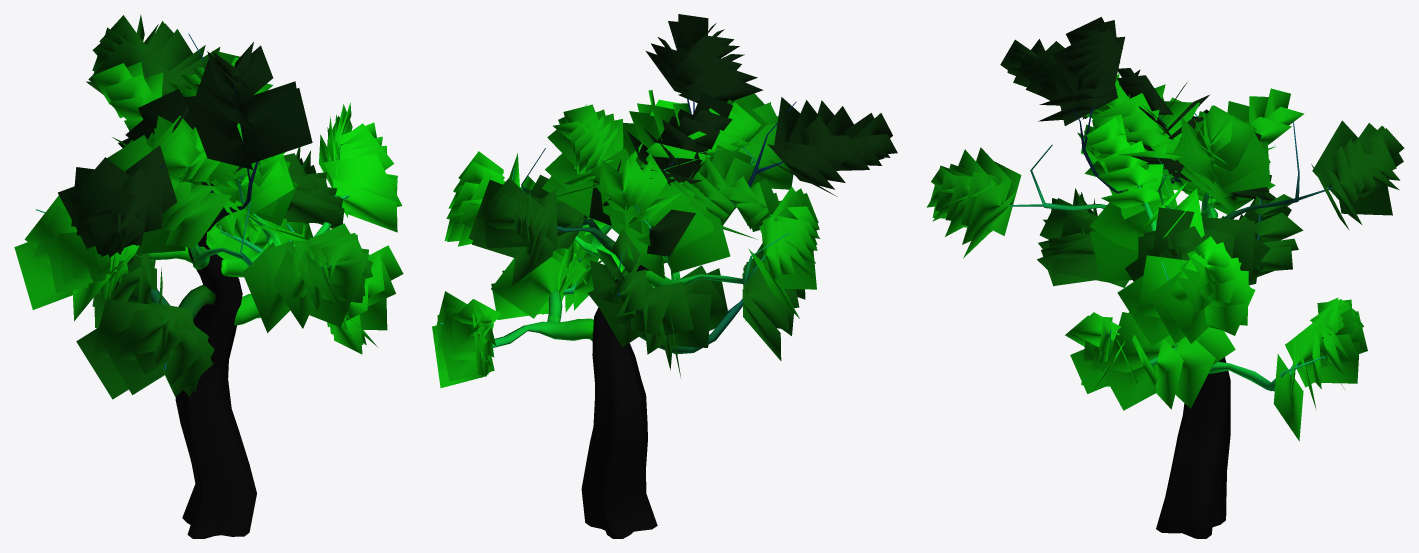
File: SM_DeadTree3.fbx
3 renders of one model, left to right at view 1: azimuth 30°, elevation 25°; view 2: azimuth 150°, elevation 25°; view 3: azimuth 270°, elevation 25°, orthographic. The views are drawn at different scales.
Visible parts, largest first — view 1: SM_DeadTree3; view 2: SM_DeadTree3; view 3: SM_DeadTree3.
Part boxes in pixels (box(x1,y1,x2,y2)): SM_DeadTree3: box(14, 14, 403, 538); SM_DeadTree3: box(432, 14, 897, 538); SM_DeadTree3: box(926, 17, 1404, 538).
Bounding box in the file's own units: 502 × 649 × 575.
